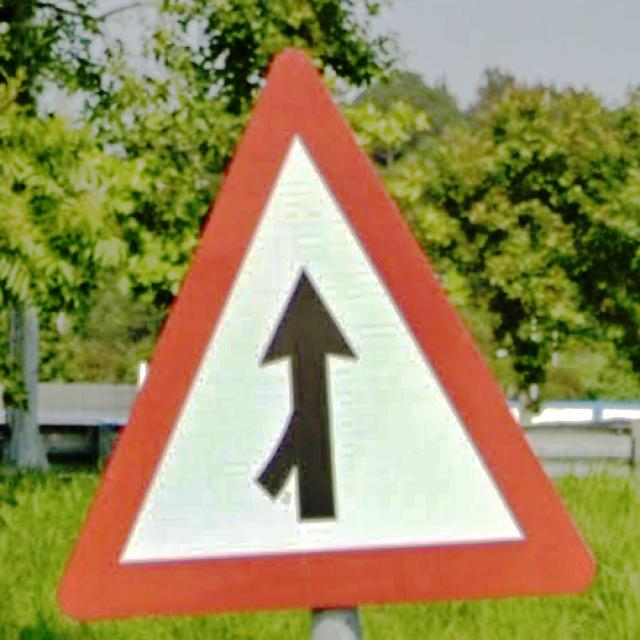leftmerge: (54, 49, 598, 624)
